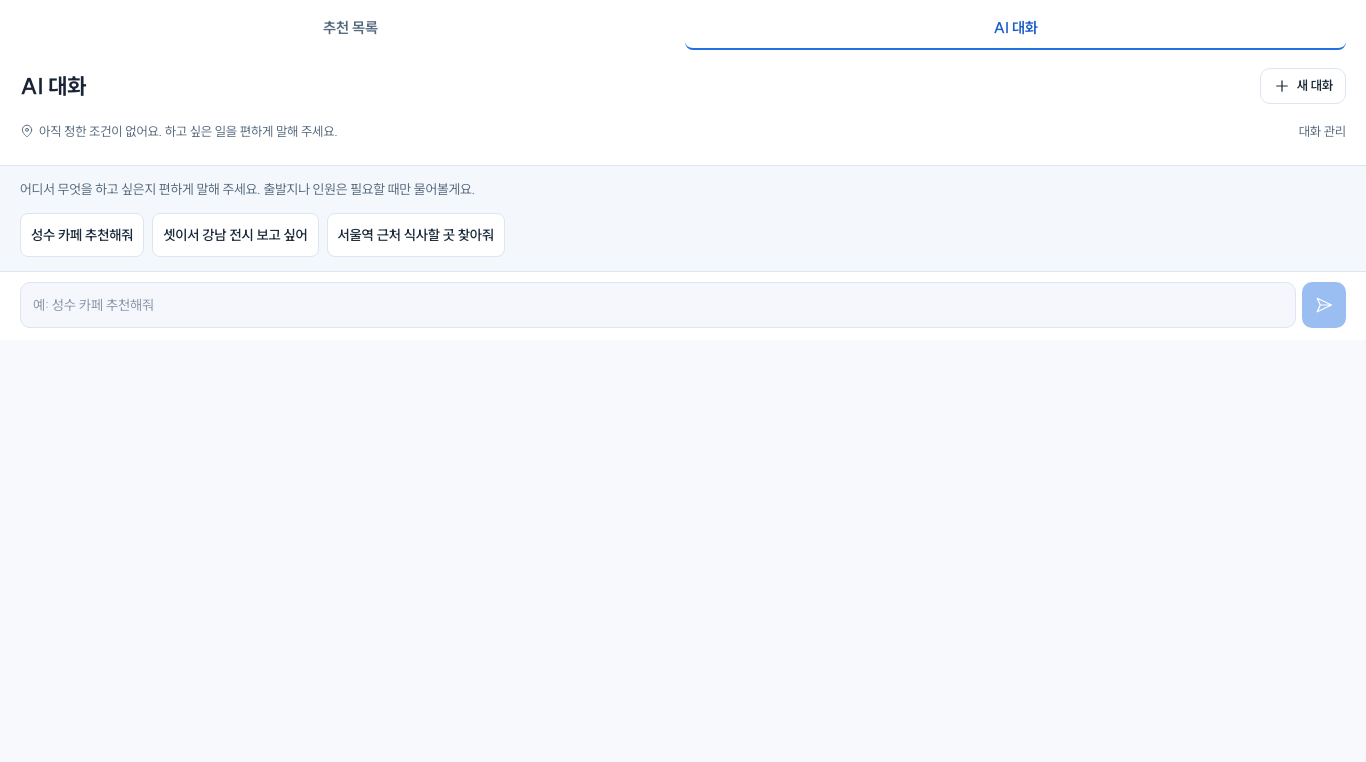
Test: ChatPanel › UI-02 질문에 단답으로 답하면 질문 ID와 함께 그대로 보낸다
The image size is (1366, 762).
Type "뭐 하지" into the field named "AI에게 보낼 메시지" at (658, 305), box [20, 282, 1296, 328]
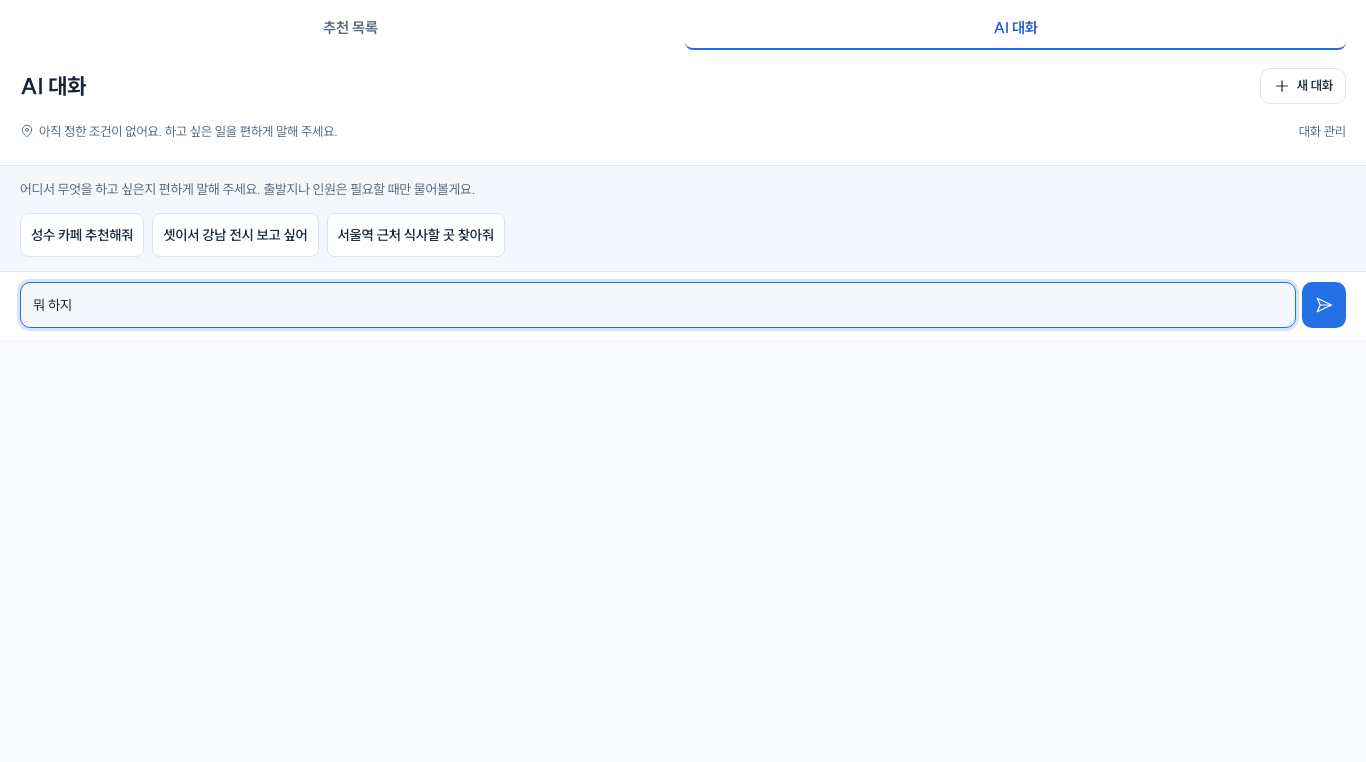
Click the button named "보내기" at (1324, 305), box [1302, 282, 1346, 328]
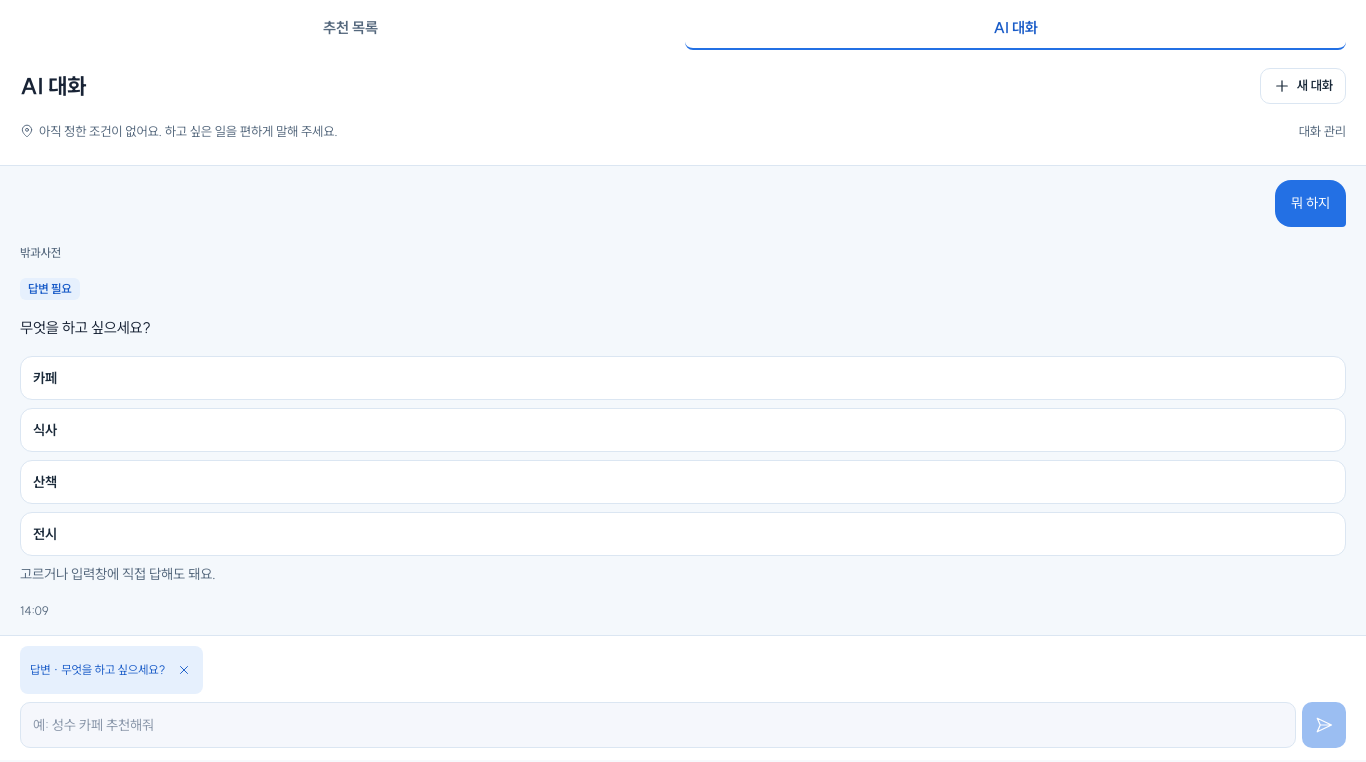
Expected: the text "답변 · 무엇을 하고 싶으세요?" is shown, [30, 660, 165, 679]
Type "셋이요" into the field named "AI에게 보낼 메시지" at (658, 725), box [20, 702, 1296, 748]
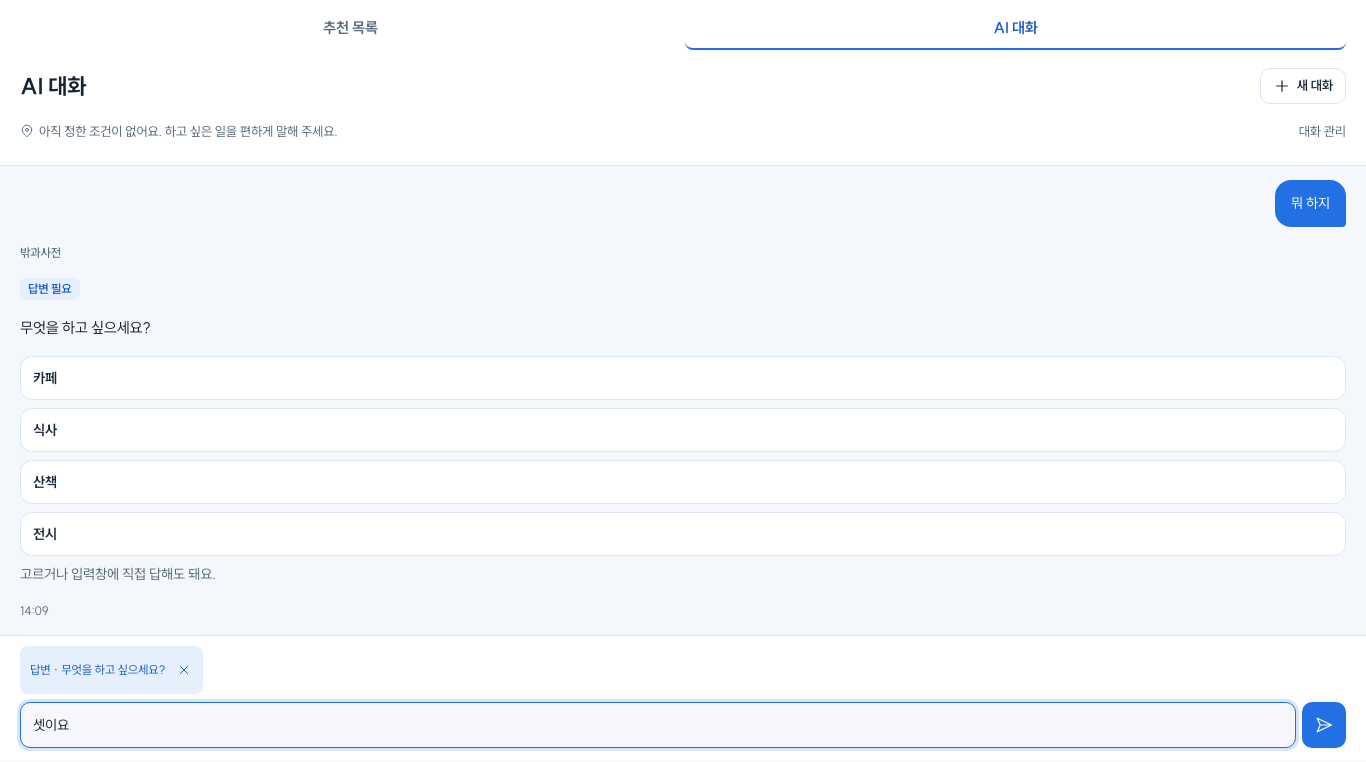
Click the button named "보내기" at (1324, 725), box [1302, 702, 1346, 748]
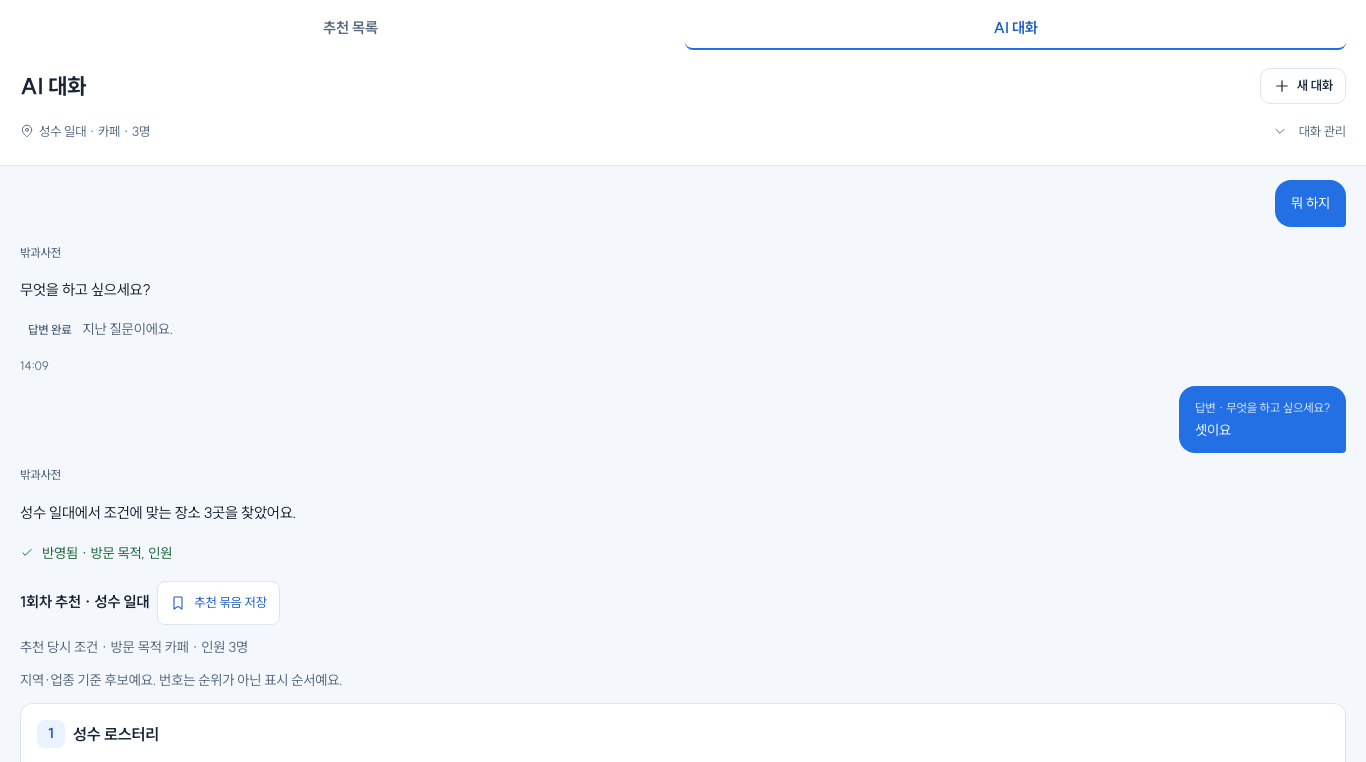
Expected: the text "반영됨 · 방문 목적, 인원" is shown, [20, 544, 172, 562]
